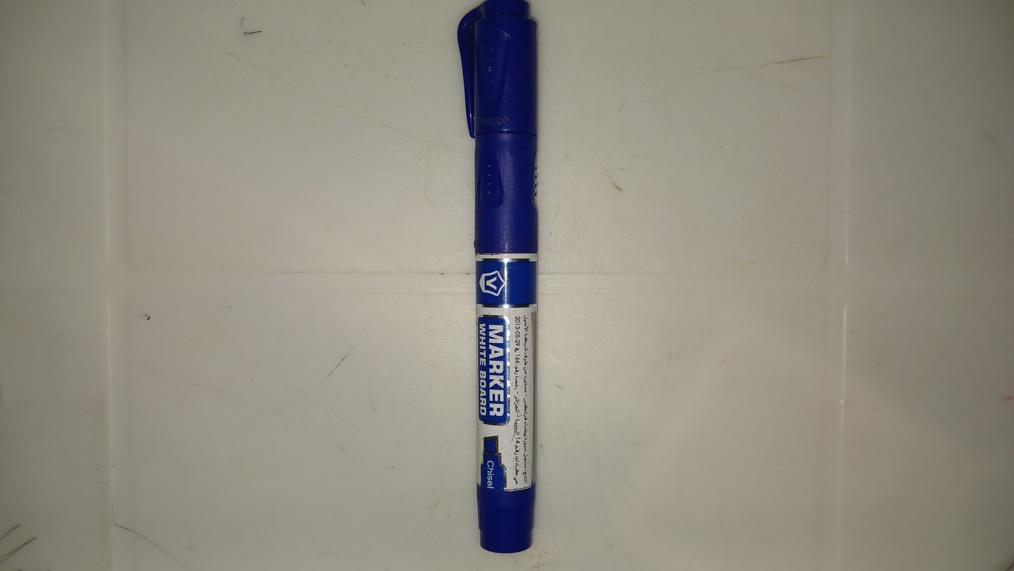Whiteboard marker: (457, 0, 540, 555)
